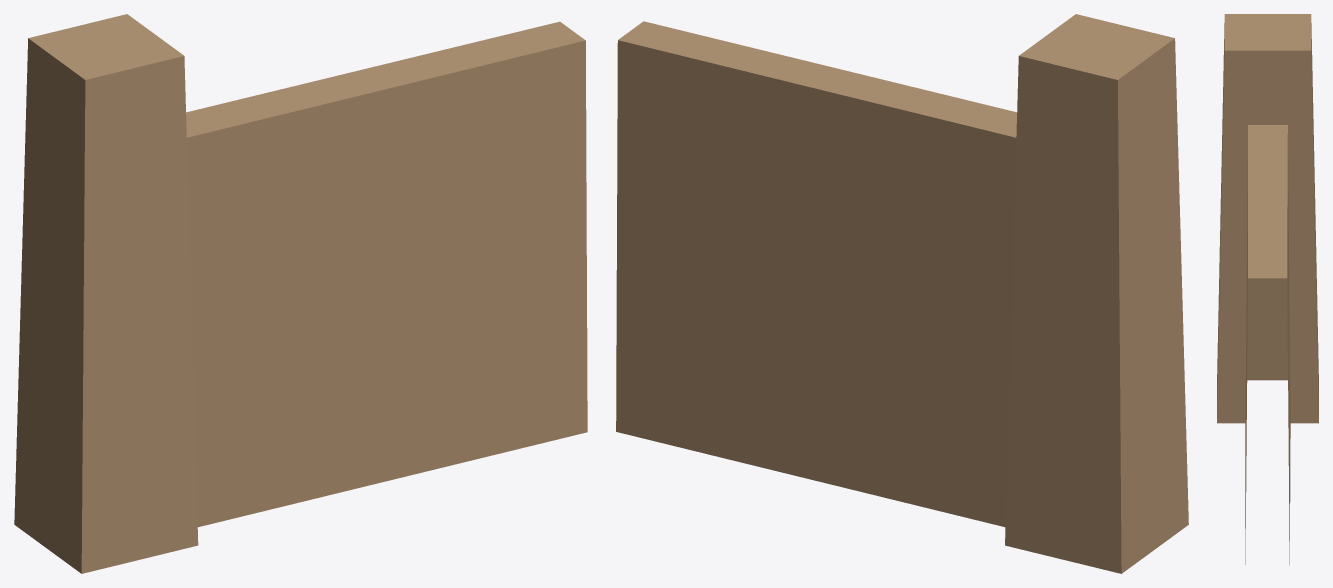
The model's file is Low_Wall_Straight.fbx.
3 views of the same model, side by side, from view 1: azimuth 30°, elevation 25°; view 2: azimuth 150°, elevation 25°; view 3: azimuth 270°, elevation 25° (orthographic). The views are drawn at different scales.
Parts seen in each view (by area): view 1: Low_Wall_Straight; view 2: Low_Wall_Straight; view 3: Low_Wall_Straight.
Boxes of the visible parts, x1,y1,x2,y2 form: Low_Wall_Straight: (14, 14, 587, 573); Low_Wall_Straight: (616, 14, 1188, 573); Low_Wall_Straight: (1217, 14, 1318, 565).
Size of the model in its own units: 562 by 500 by 125.
Materials: 1 (1 with a texture image).
